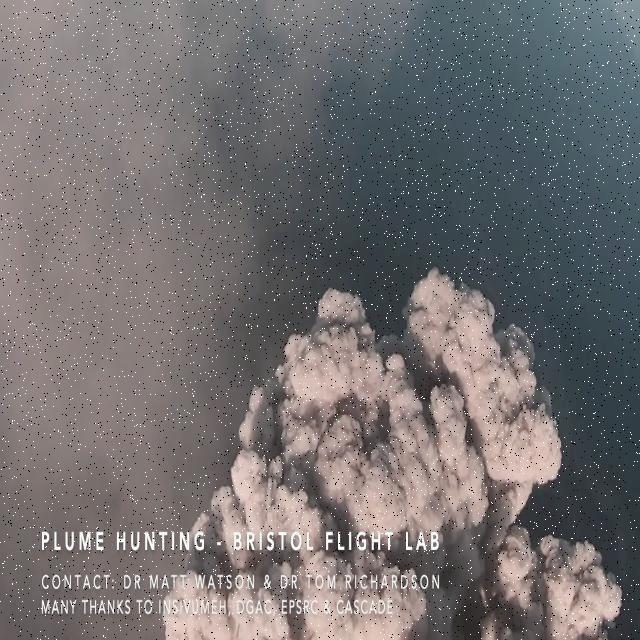Plume: (164, 270, 624, 640)
